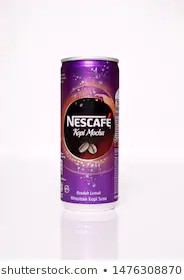nescafe-can: (58, 54, 122, 205)
